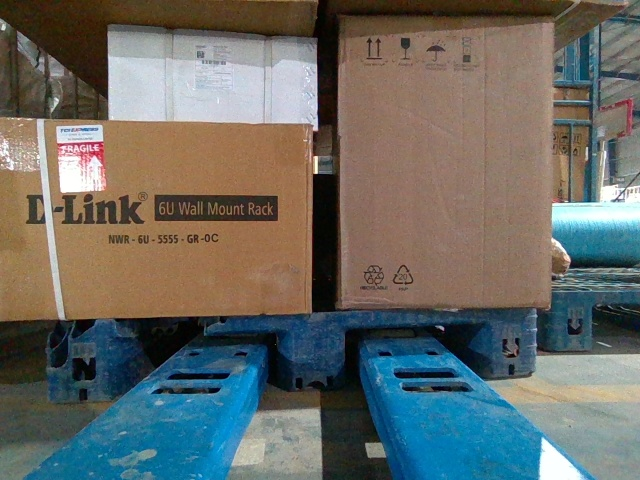block: (48, 321, 139, 404), (279, 311, 350, 392), (479, 303, 544, 379)
front: (49, 306, 536, 401)
hole pallet: (134, 329, 283, 390), (346, 322, 474, 389)
